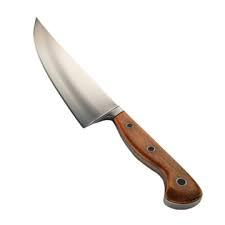Knife: (32, 16, 202, 209)
